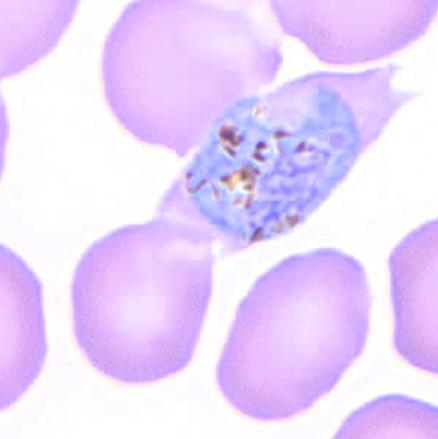Infected: (151, 60, 405, 248)
Uninfected: (217, 244, 370, 422), (100, 0, 271, 155), (73, 219, 214, 382)
